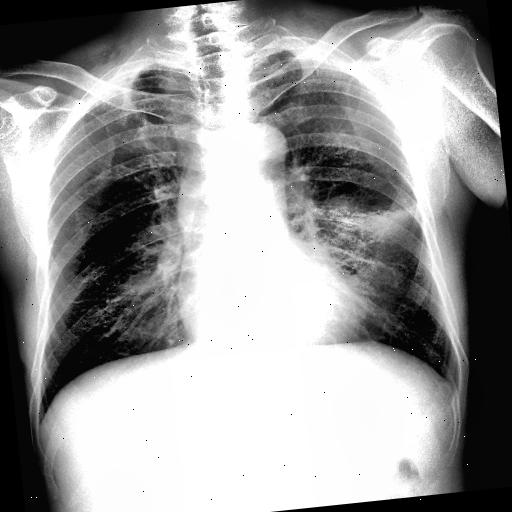0- Aortic enlargement: (224, 120, 290, 170)
11- Pleural thickening: (100, 56, 176, 91), (90, 62, 153, 102), (239, 44, 323, 68)
4- Consolidation: (298, 193, 434, 310)
6- Infiltration: (268, 177, 436, 342), (298, 190, 426, 307)
7- Lung Opacity: (268, 177, 436, 342), (298, 193, 434, 310)
